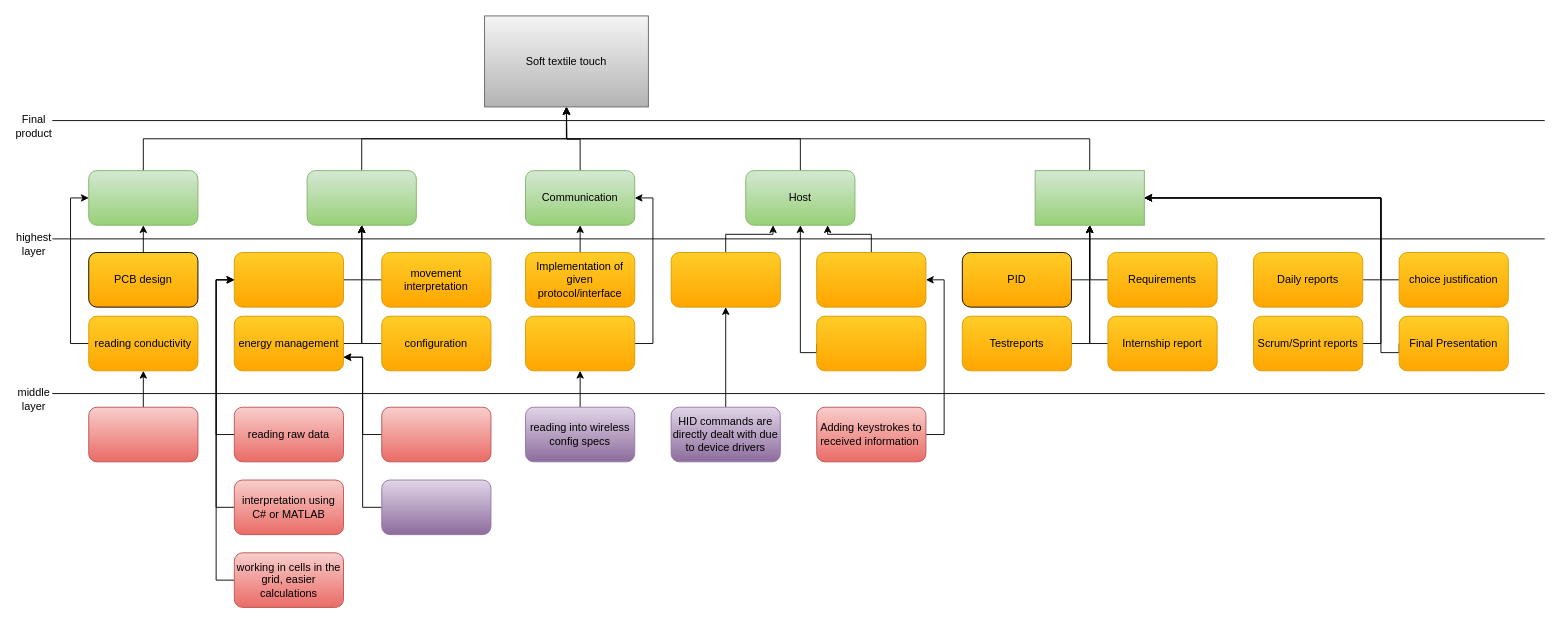
The diagram is 1561 pixels wide and 623 high, and some of its shapes have lost their labels. Each missing label, with the centre of its shape:
"1 week on single charge" belongs at point 436,507.
"benefits of BLE and/or lowpower mode on ES" belongs at point 436,434.
"bind actions to certain events (depending on protocol)" belongs at point 725,279.
"configuration application" belongs at point 871,279.
"Do cumentation" belongs at point 1089,197.
"Firmware" belongs at point 361,197.
"Hardware design choices" belongs at point 143,197.
"Ic or in code?" belongs at point 143,434.
"interaction capture" belongs at point 288,279.
"transmit protocol over interface" belongs at point 580,343.
"variety of devices (iPhone, android, windows, mac, linux)" belongs at point 871,343.
